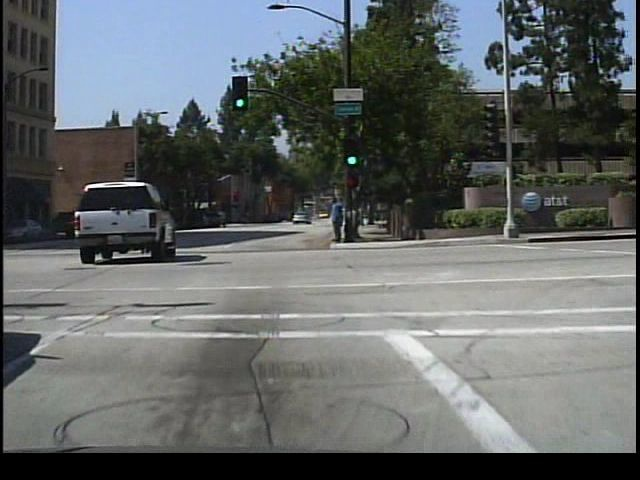person: (324, 189, 344, 244), (333, 194, 351, 241)
